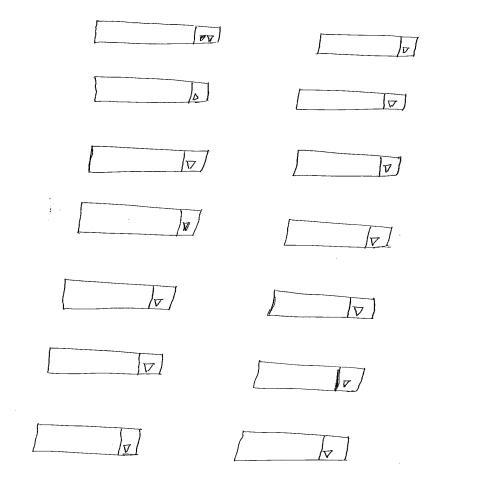Select: (77, 202, 203, 237), (62, 279, 178, 312), (233, 431, 350, 463), (32, 424, 143, 457), (254, 361, 367, 393), (89, 146, 210, 174), (47, 348, 164, 376), (93, 21, 223, 46), (284, 220, 393, 249), (267, 291, 376, 320), (94, 77, 210, 104), (293, 150, 402, 178), (316, 34, 420, 58), (296, 90, 408, 112)
